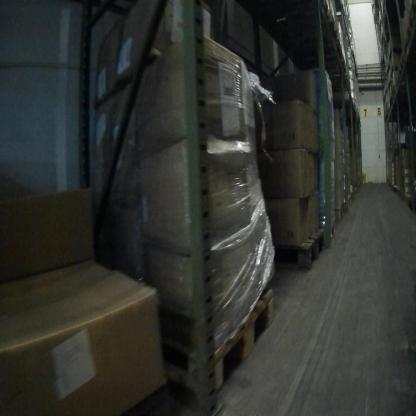pallet: (146, 282, 278, 400), (270, 228, 330, 277), (291, 36, 346, 59), (295, 16, 340, 42), (271, 2, 331, 20), (296, 56, 347, 75), (328, 198, 346, 232), (327, 72, 352, 93), (319, 225, 336, 253), (401, 11, 415, 43), (395, 65, 414, 84), (397, 50, 411, 73), (394, 186, 404, 205), (407, 196, 416, 211), (402, 192, 410, 207)
